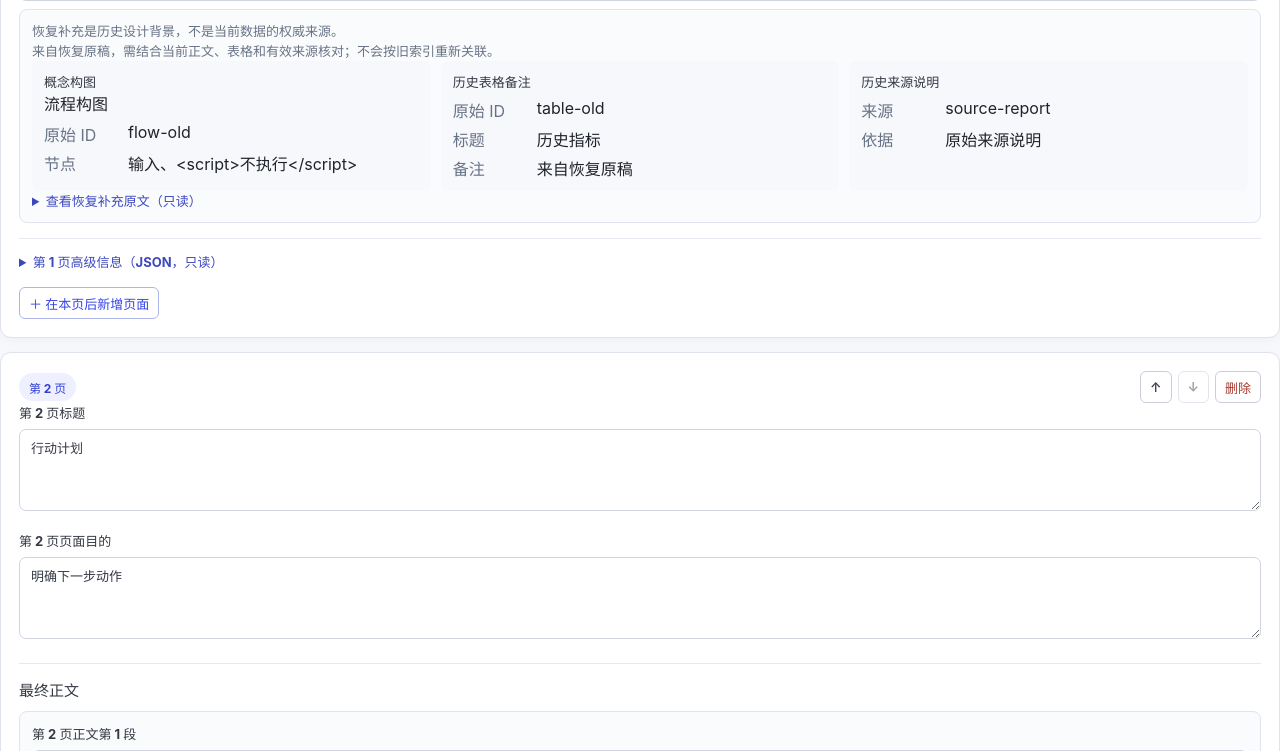
Test: DetailEditor page management and index › focuses an enabled move control after moving a page into the first position
(page scrolled)
Click the button named "上移第 2 页" at (1156,387), box top-left (1140, 371), bottom-right (1172, 403)
(page scrolled)
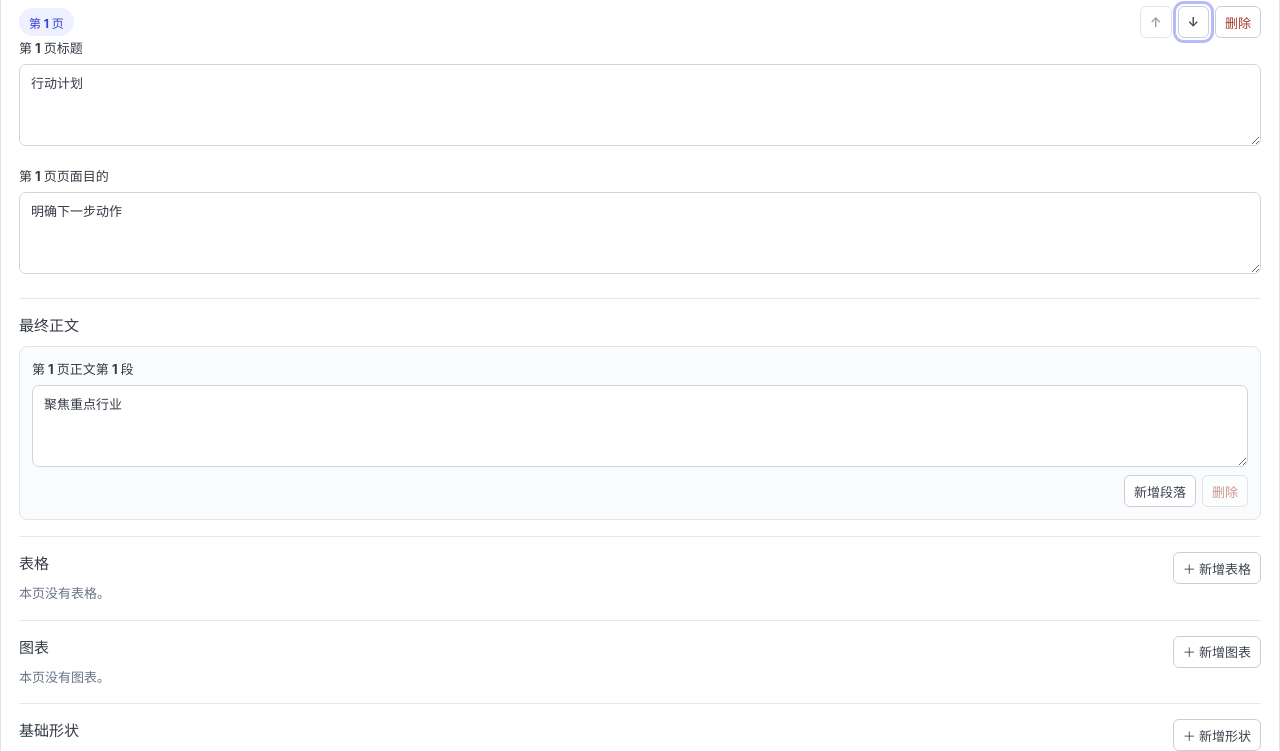
Now the button named "下移第 1 页" is enabled, box top-left (1178, 6), bottom-right (1209, 38)
